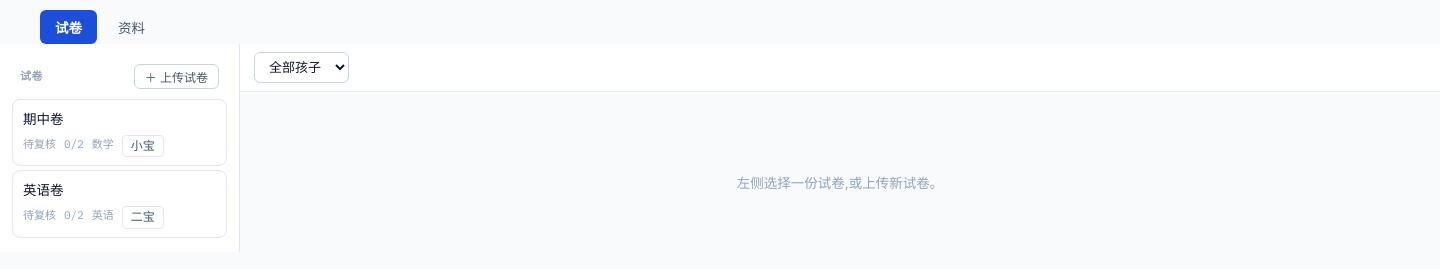
Test: ReviewView › 队列按孩子过滤:切换下拉只显示该孩子的卷,队列项显示孩子名
This screenshot has width=1440, height=269.
Check: the text "英语卷" is shown, box x1=23 y1=182 x2=64 y2=198
Check: the text "小宝" is shown, box x1=122 y1=135 x2=164 y2=157
Select "小宝" in the dropdown named "孩子" at (302, 68), box x1=254 y1=52 x2=349 y2=83
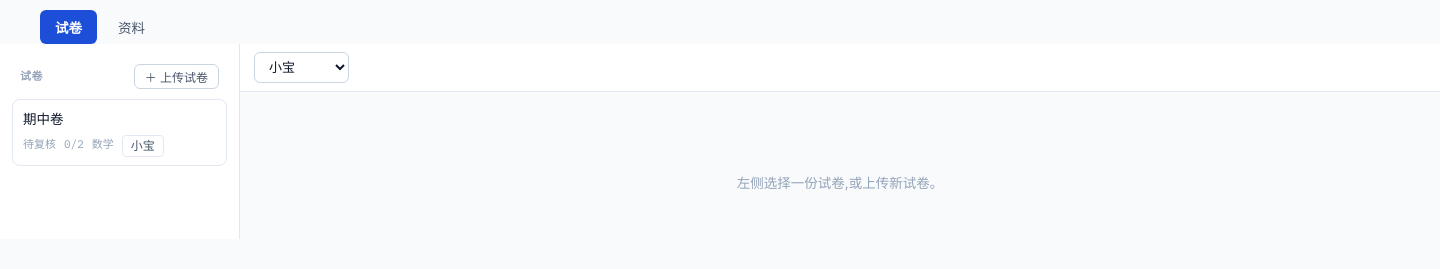
Check: the button "英语卷" is gone
